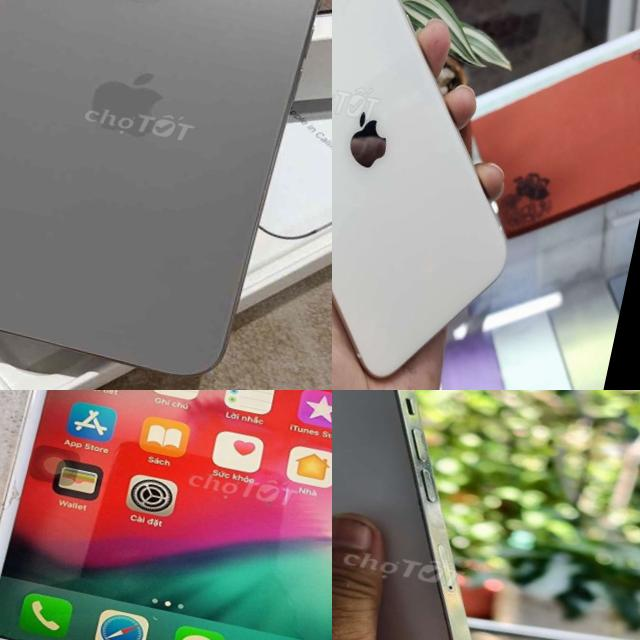gen_11: (332, 0, 574, 390)
gen_12_13: (332, 390, 587, 640)
gen_15: (0, 0, 332, 390)
gen_6: (0, 390, 332, 640)
